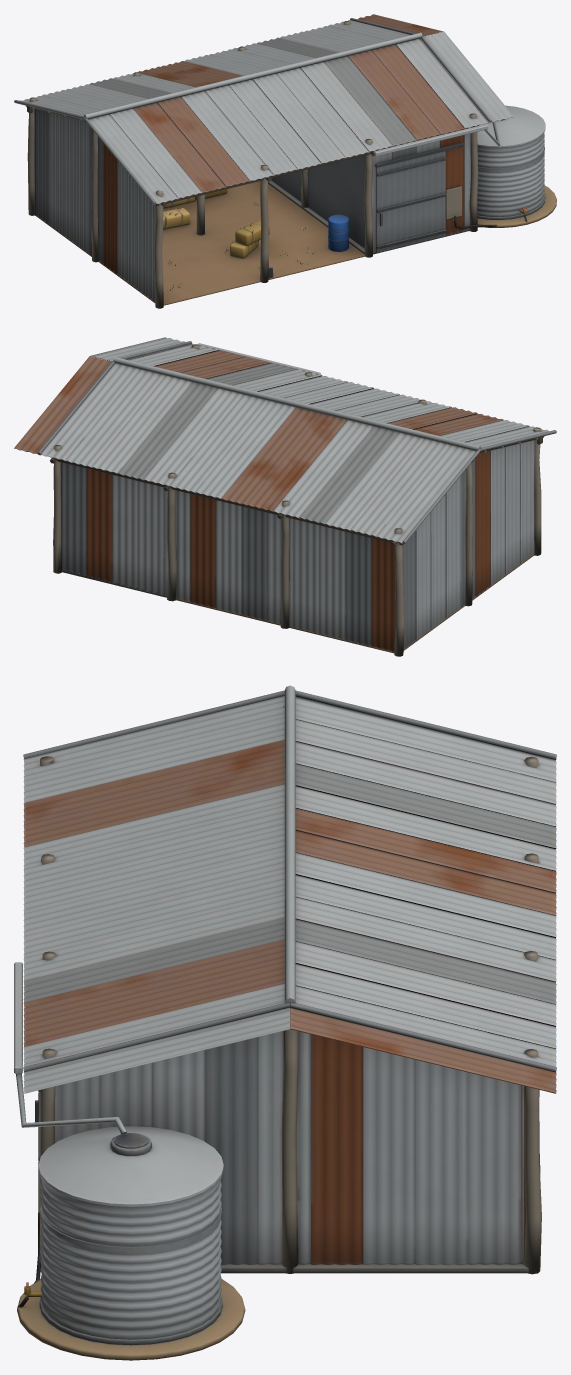
File: shed.glb
3 renders of one model, top to bottom at view 1: azimuth 30°, elevation 25°; view 2: azimuth 150°, elevation 25°; view 3: azimuth 270°, elevation 25°, orthographic. The views are drawn at different scales.
Visible parts, largest first — view 1: shed; view 2: shed; view 3: shed.
Boxes of the visible parts, <box> form: shed: <box>14,14,556,308</box>; shed: <box>14,337,556,656</box>; shed: <box>14,685,556,1360</box>.
Size of the model in its own units: 13.49 by 4.52 by 7.86.
1 material, 1 textured.
